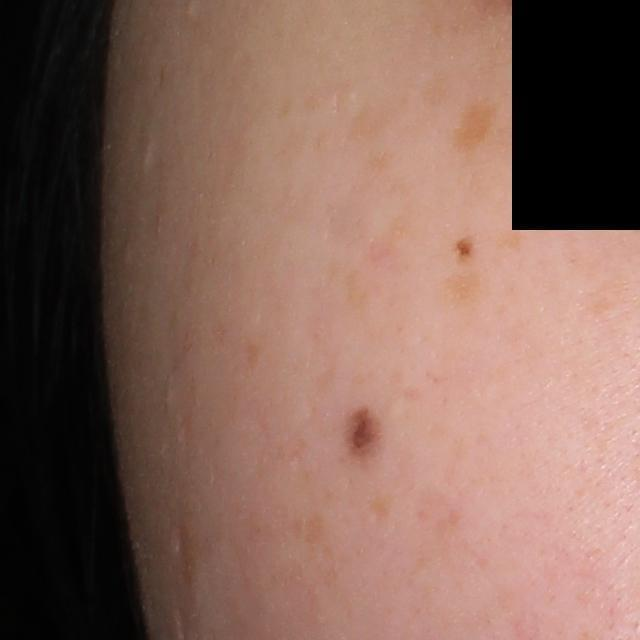melasma: (344, 97, 407, 152), (454, 102, 494, 151), (441, 270, 489, 307), (495, 226, 531, 258)
nevus: (456, 236, 471, 257)
